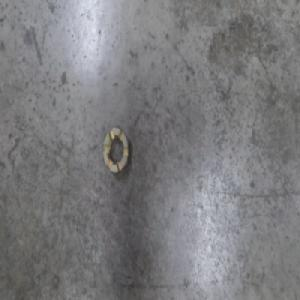Nut: (101, 123, 130, 175)
